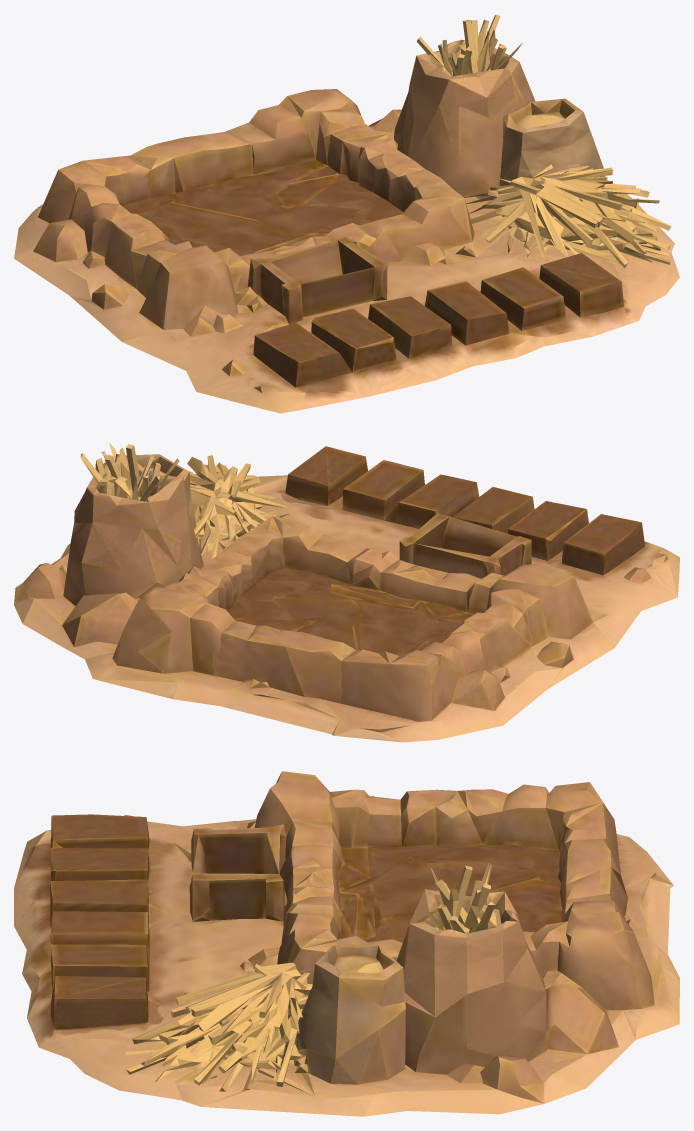
Rendered from egypt-brick-yard.glb.
The picture shows the model from 3 angles, top to bottom: view 1: azimuth 30°, elevation 25°; view 2: azimuth 150°, elevation 25°; view 3: azimuth 270°, elevation 25°; orthographic projection. The views are drawn at different scales.
Size of the model in its own units: 1.9 by 0.5551 by 1.78.
1 material, 1 textured.
